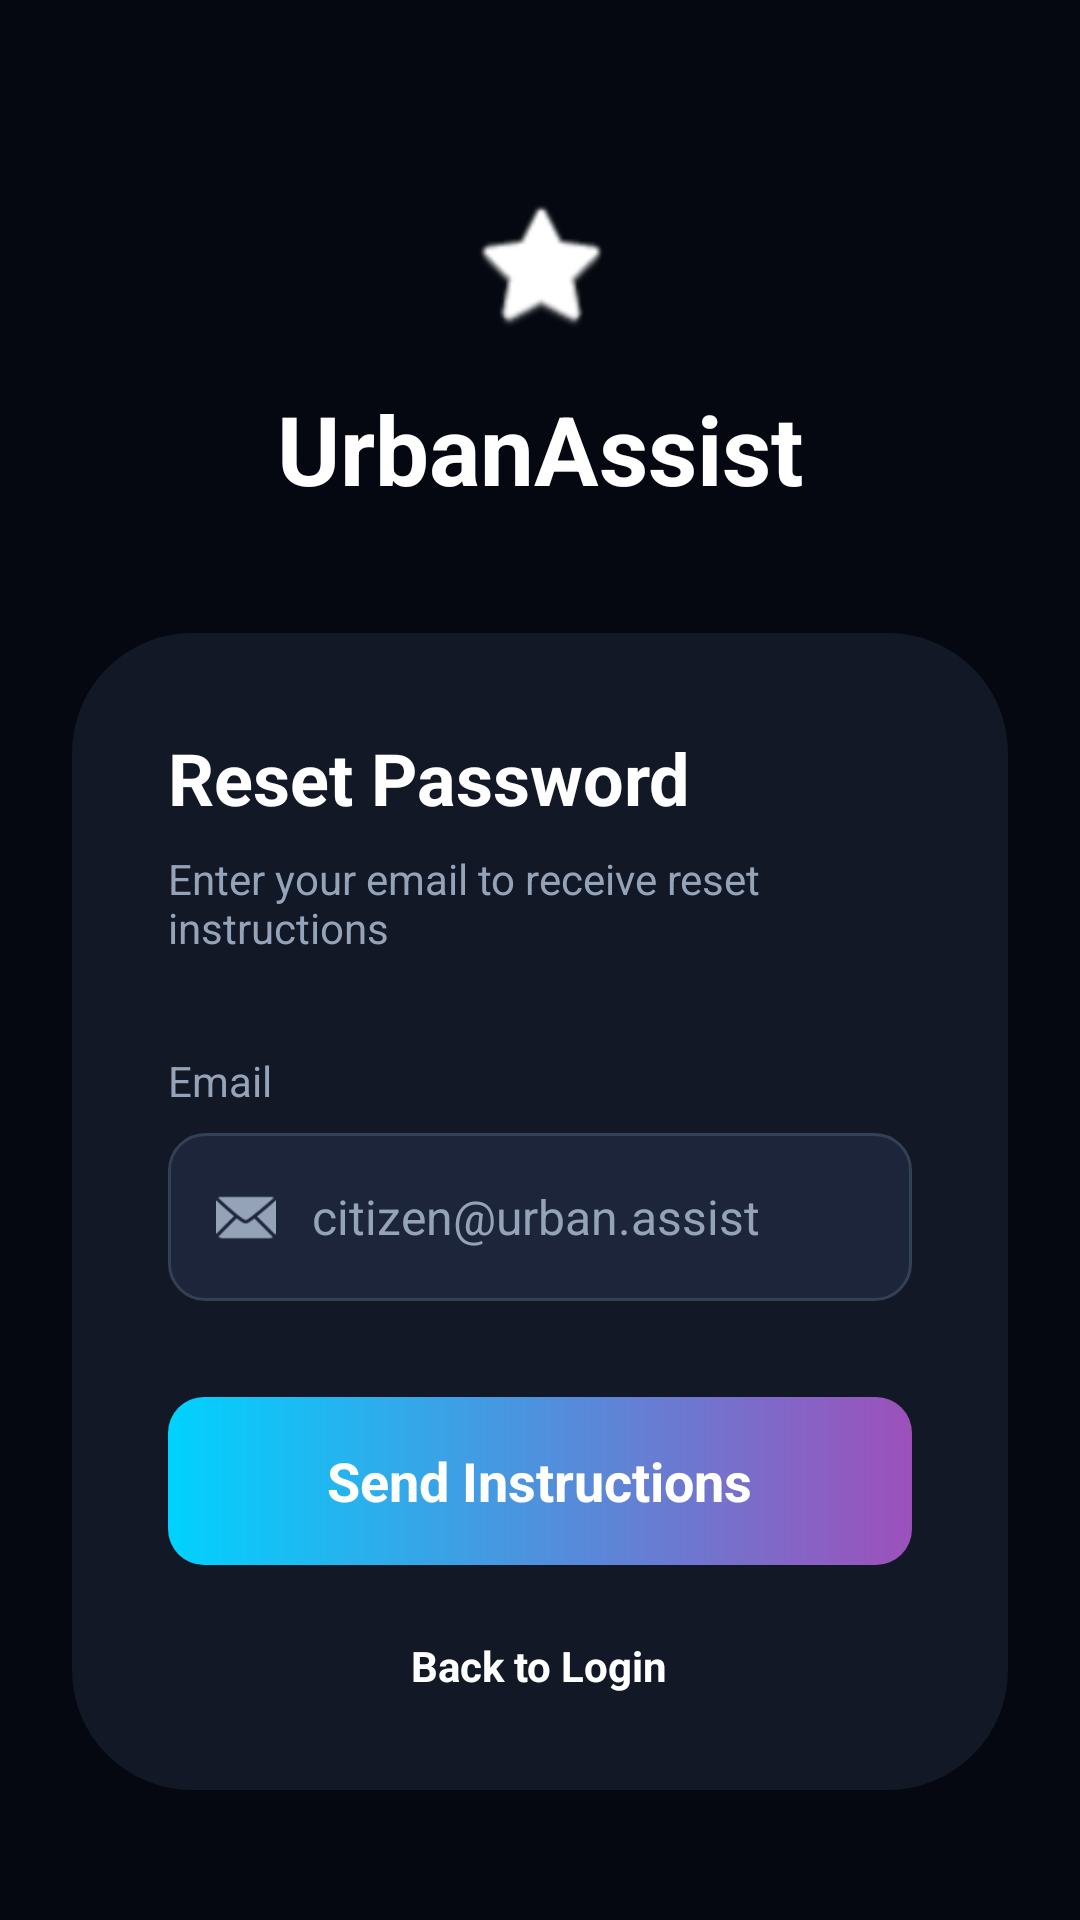

Locate icon controls on the screen. Image size 1080px x 1920px, boxes as (x1, y1, x2, y2).
star on: (481, 207, 601, 324)
